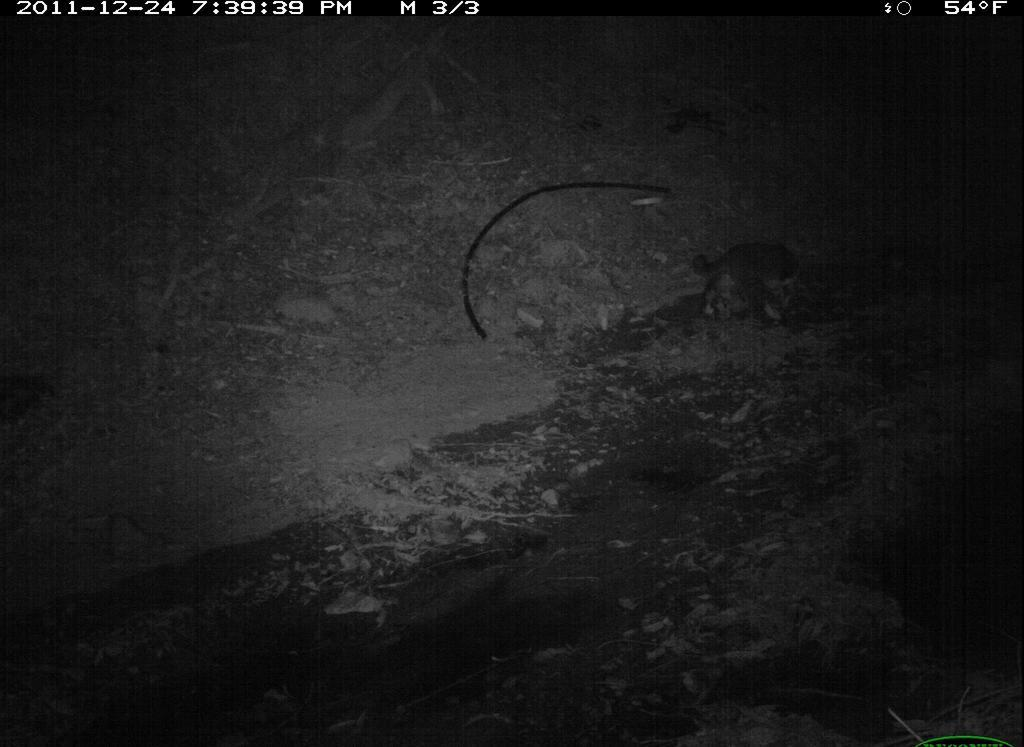cat: (687, 236, 817, 333)
